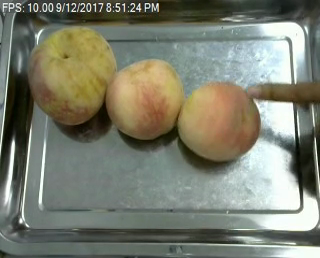Peach: (27, 24, 114, 124), (178, 81, 261, 161), (106, 57, 184, 139)
